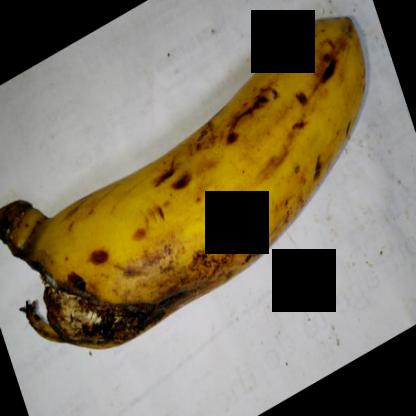ripe: (99, 25, 382, 303)
rotten: (0, 193, 200, 372)
